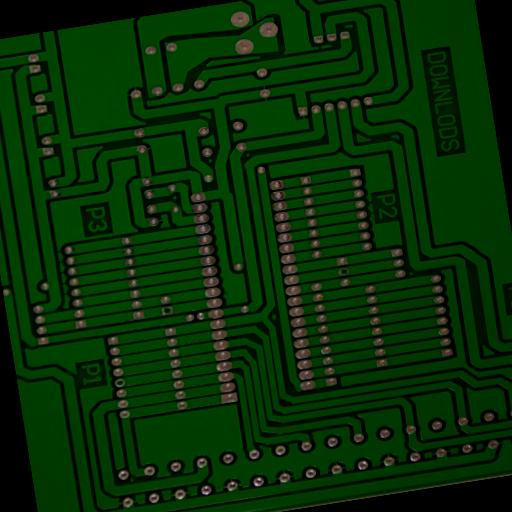missing_hole: (334, 262, 352, 276), (114, 375, 127, 387), (159, 304, 174, 314)
